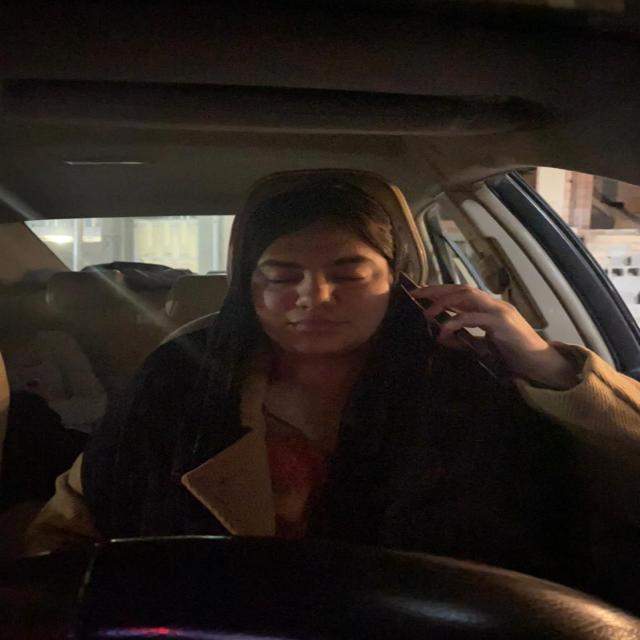mobile: (391, 272, 499, 371)
person: (240, 189, 394, 357)
